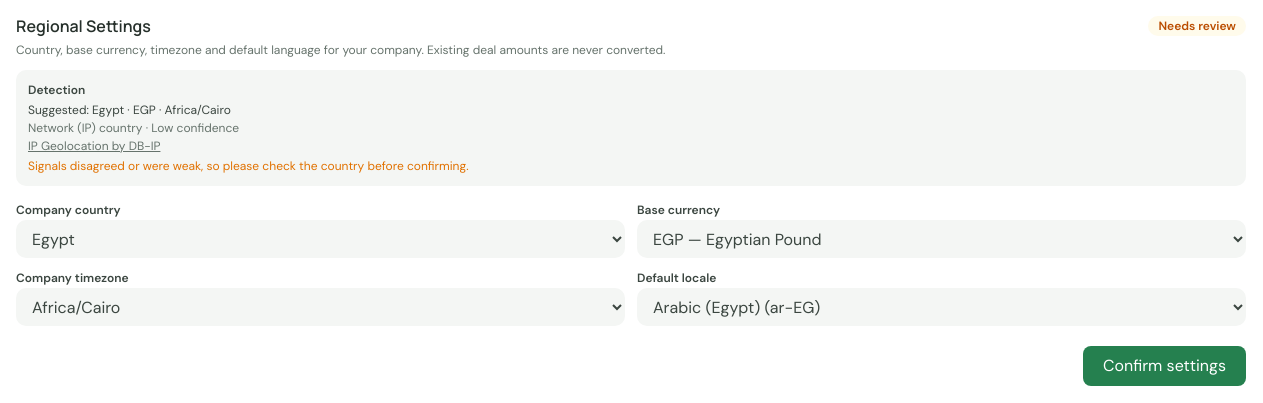
Test: RegionalSettingsSection › confirms with the four chosen values and no acknowledge flag for a first confirmation
The width and height of the screenshot is (1263, 403).
Click the button "Confirm settings".
click(1164, 366)  # box x1=1083 y1=346 x2=1246 y2=386
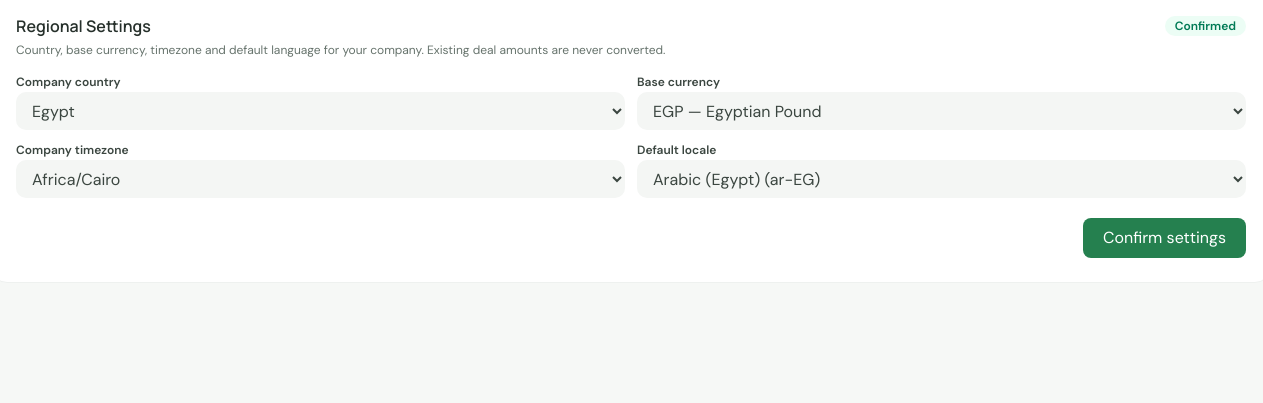
Result: the text with test id "regional-status" reads "Confirmed" at x1=1175 y1=18 x2=1236 y2=34
